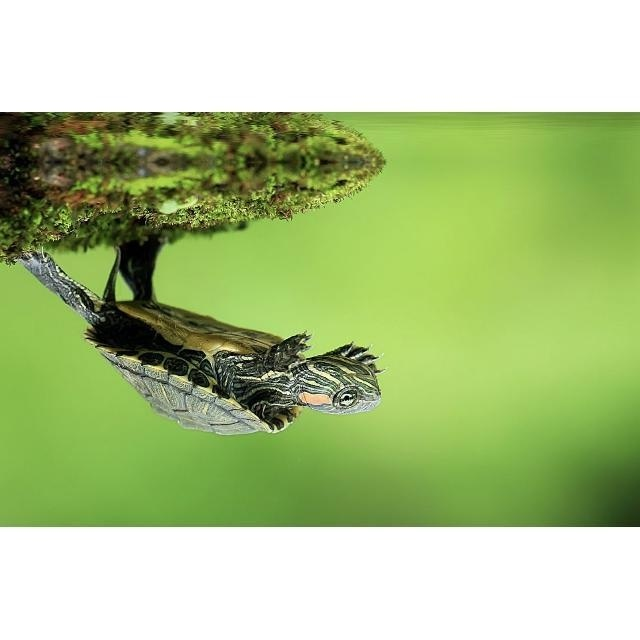turtle: (20, 228, 383, 437)
